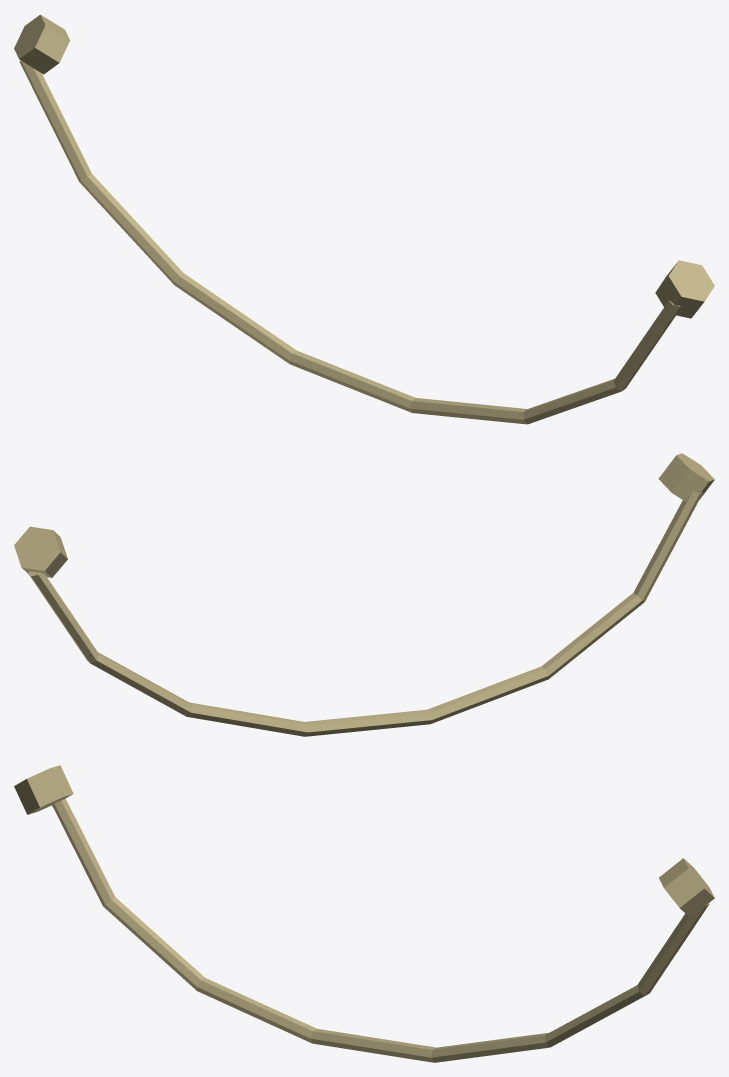
File: Swing.glb
3 views of the same model, one above another, from view 1: azimuth 90°, elevation 25°; view 2: azimuth 150°, elevation 25°; view 3: azimuth 270°, elevation 25° (orthographic). The views are drawn at different scales.
Visible parts, largest first — view 1: Swing; view 2: Swing; view 3: Swing.
Part boxes in pixels (left/top/right/bottom): Swing: left=14, top=14, right=714, bottom=424; Swing: left=14, top=453, right=714, bottom=736; Swing: left=14, top=765, right=714, bottom=1062.
Size of the model in its own units: 1.78 by 1.21 by 2.69.
